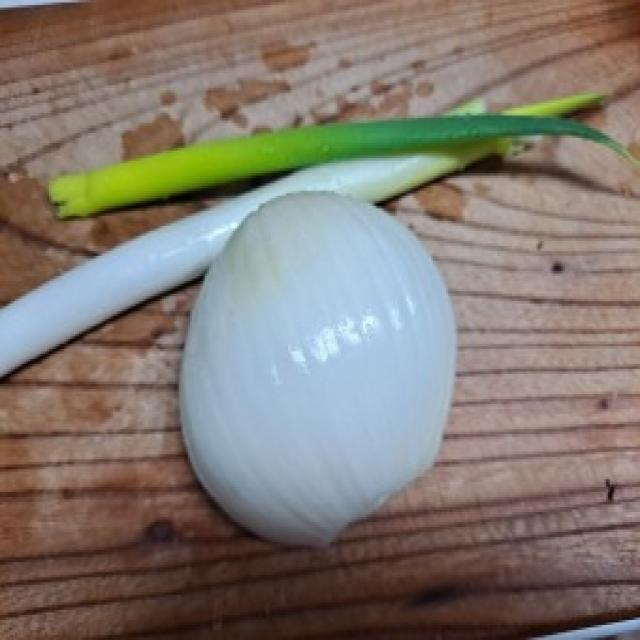onion: (150, 167, 490, 555)
